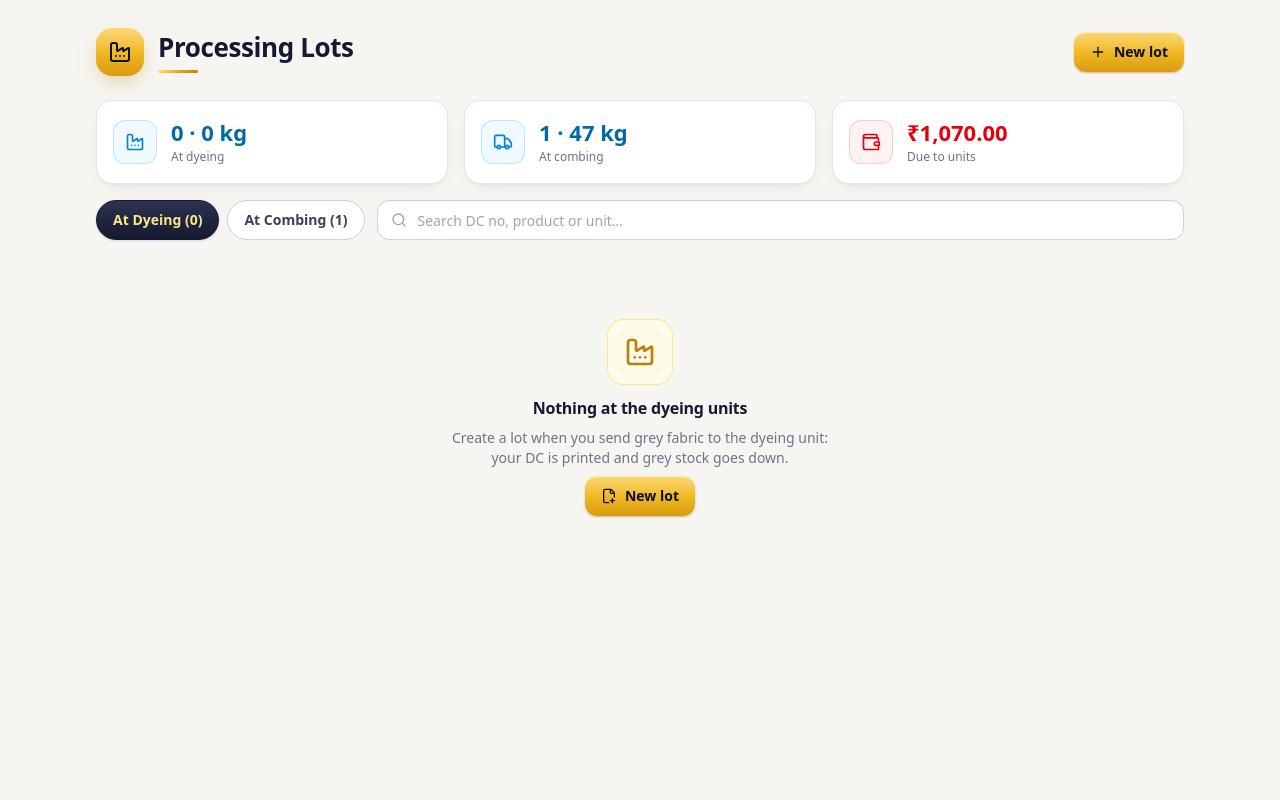
it: lot actions: edit, payment history, returns › a return from the combing unit goes back to stock and shows in the return history
Click the radio button labelled "At Combing (1)".
click(296, 220)  # box [228,200,364,240]
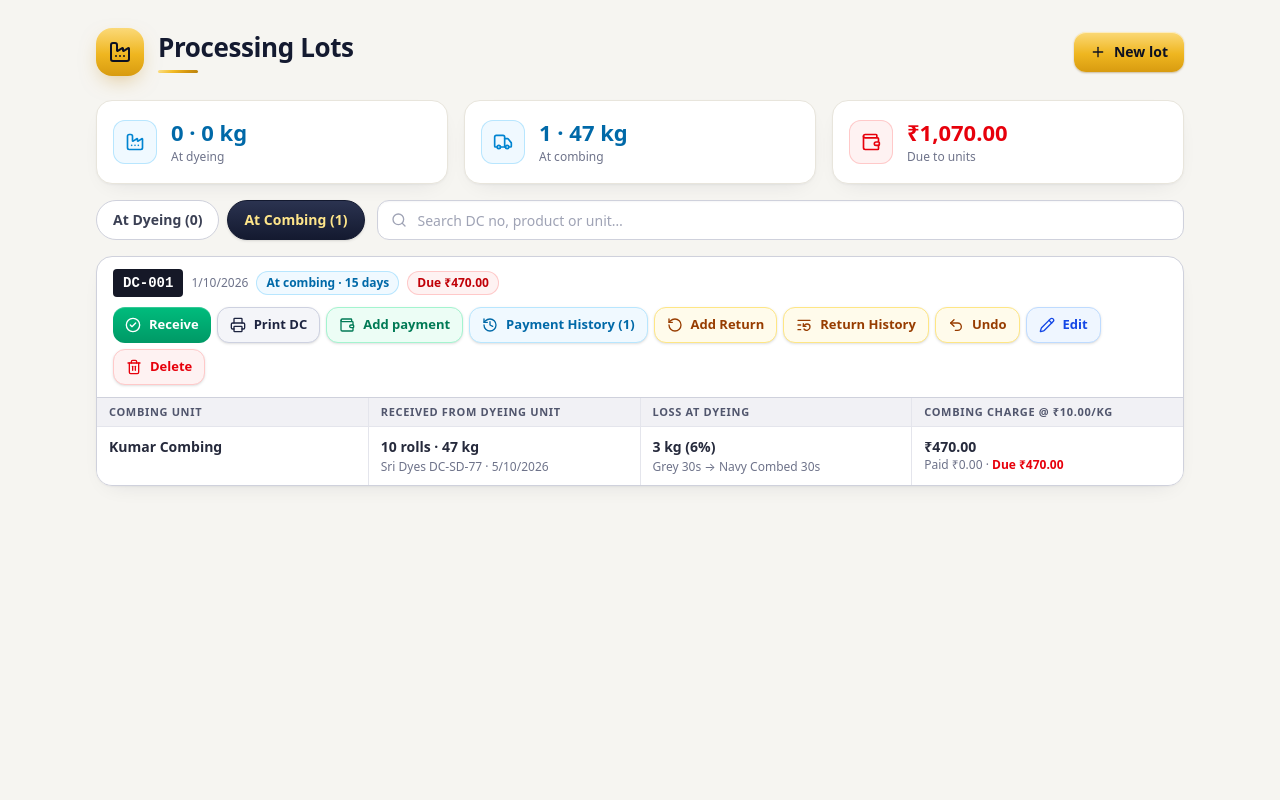
Check: the text "Received from dyeing unit" is shown, box [369,398,640,427]
Click the button "Add Return".
click(715, 325)  # box [654,307,777,343]
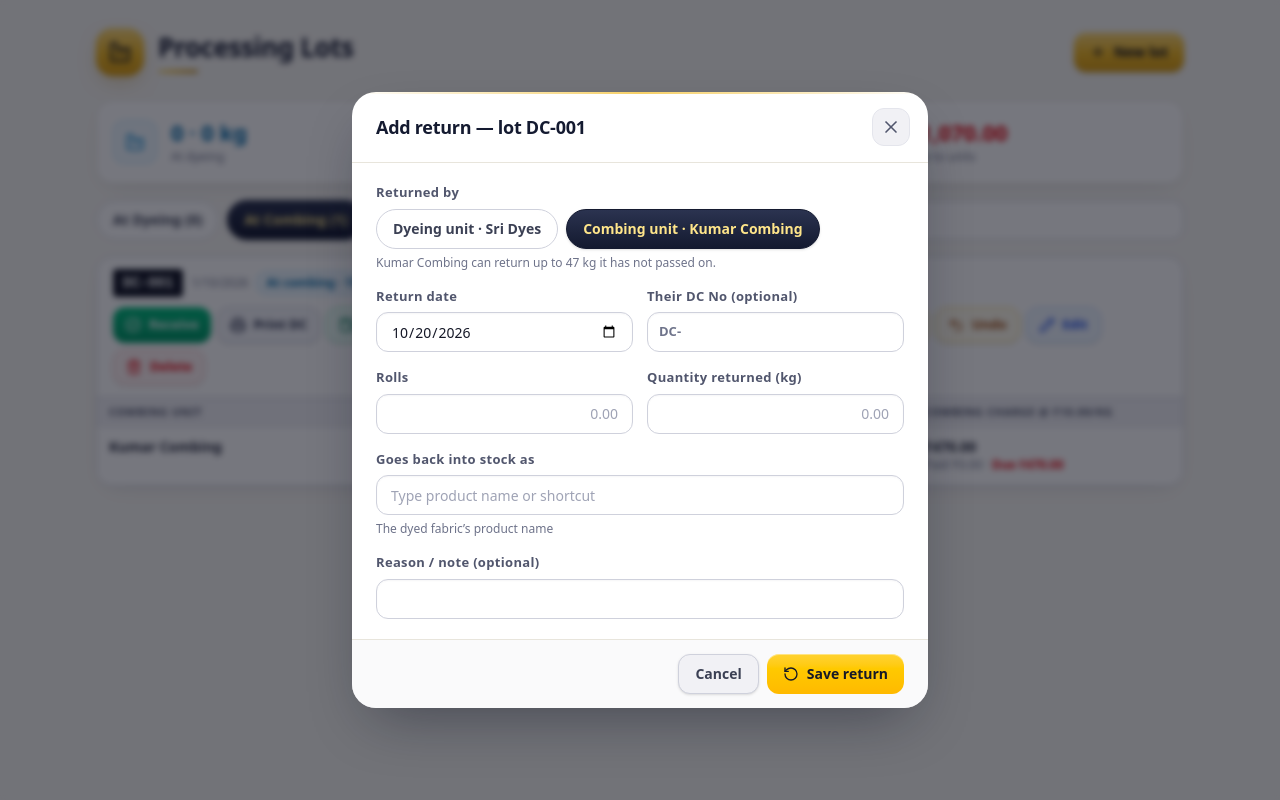
Check: the text "Kumar Combing can return up to 47 kg it has not passed on." is shown, box [376,254,716,271]
Type "7" into the field labelled "Quantity returned (kg)".
click(776, 414); type("7")  # box [647,394,904,434]
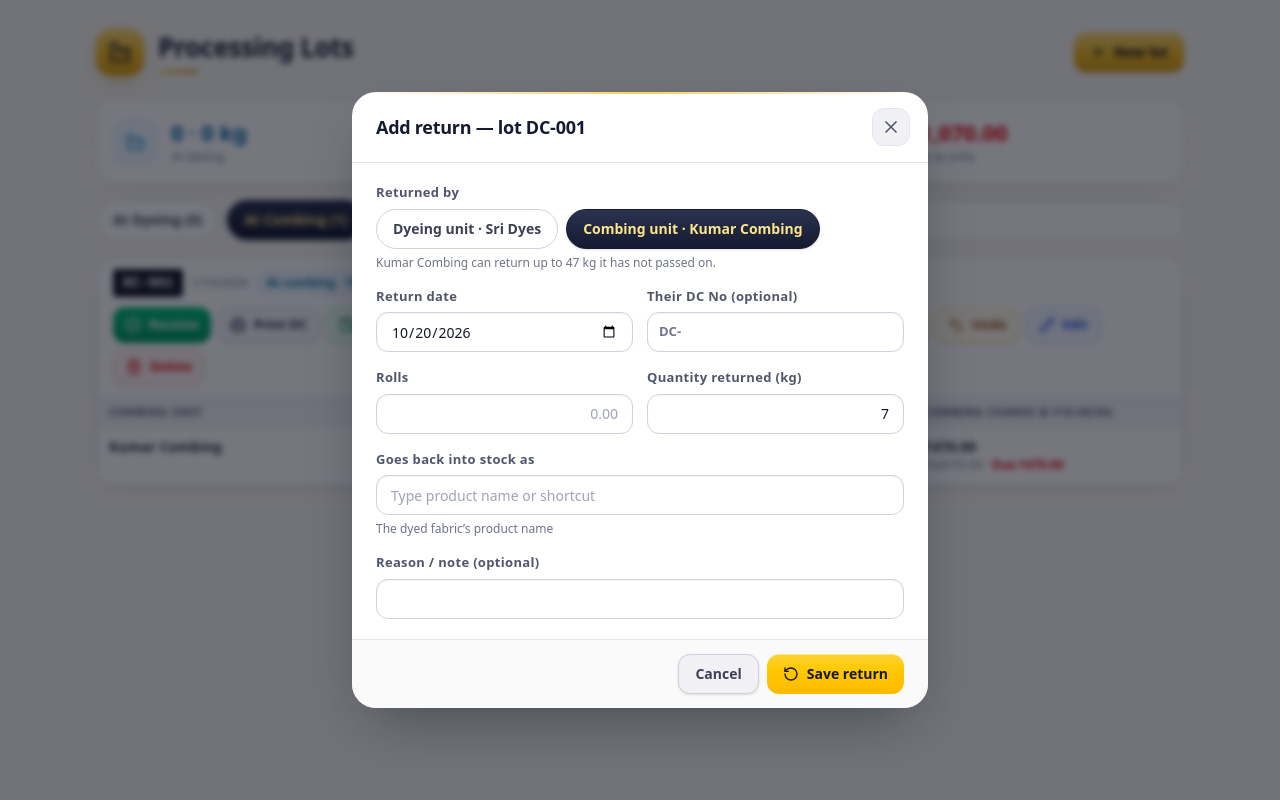
Type "Navy Dyed 30s" into the dropdown named "Goes back into stock as".
click(640, 495); type("Navy Dyed 30s")  # box [376,475,904,515]
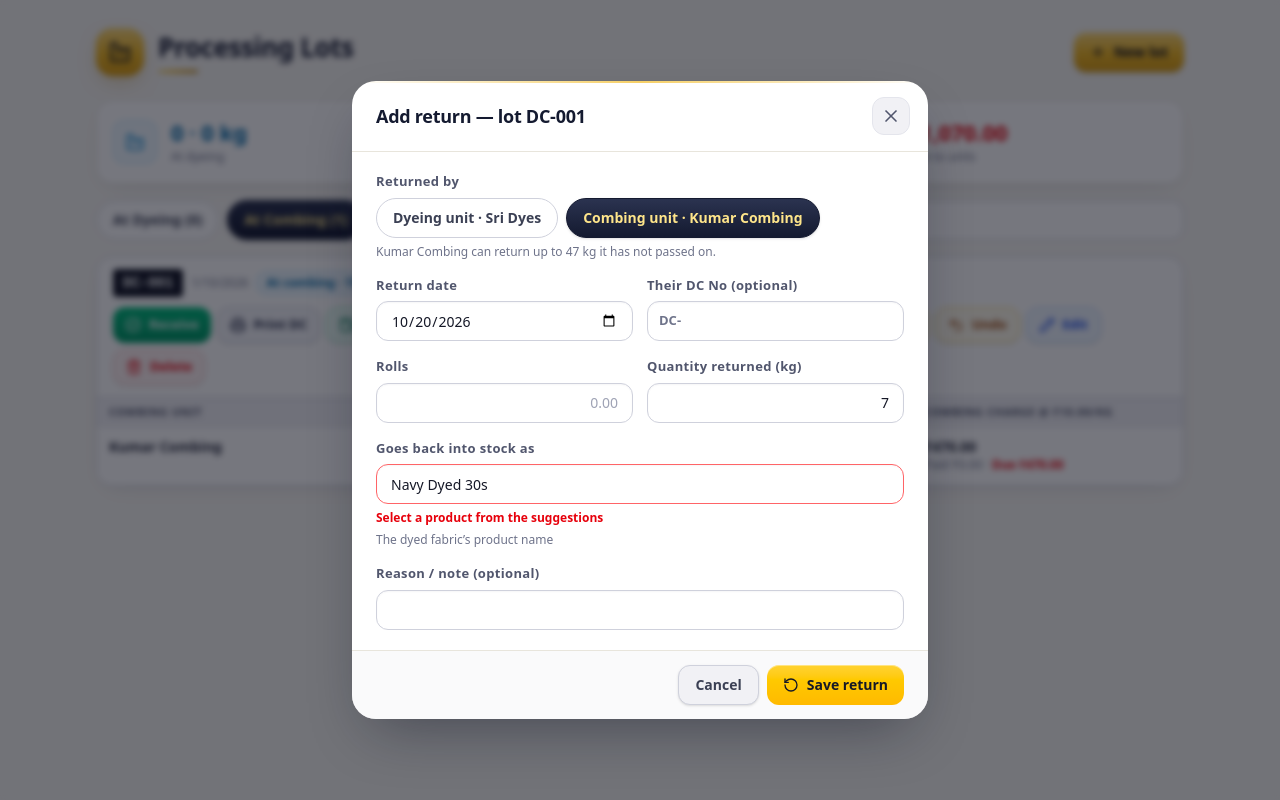
Click the button "Save return".
click(835, 685)  # box [767,665,904,705]
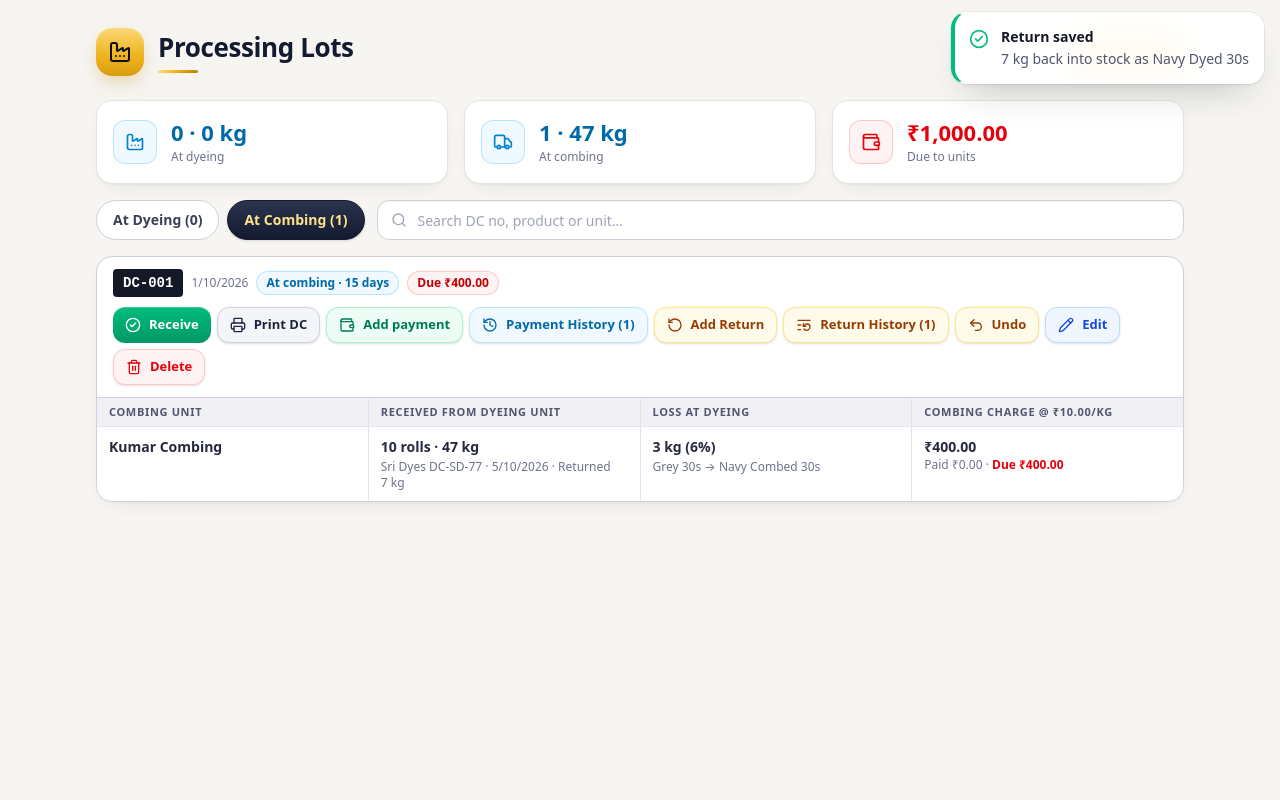
Click the button "Return History (1)".
click(866, 325)  # box [783,307,949,343]
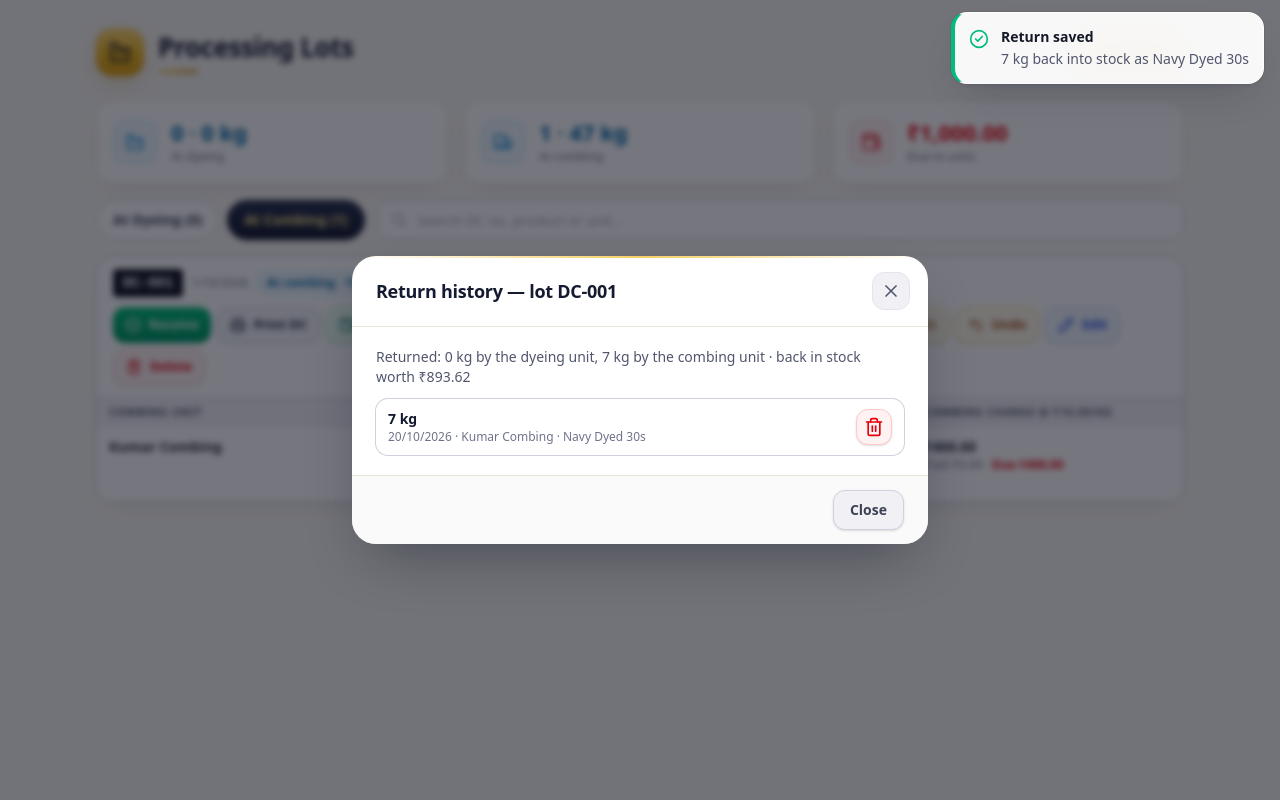
Check: the text "7 kg" is shown, box [388,409,417,428]
